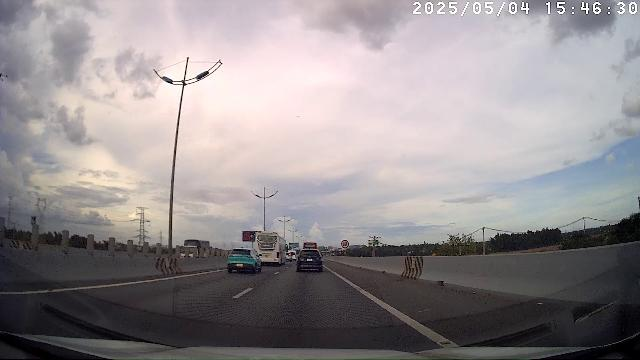127-toc-do-toi-da-80: (341, 239, 349, 249)
